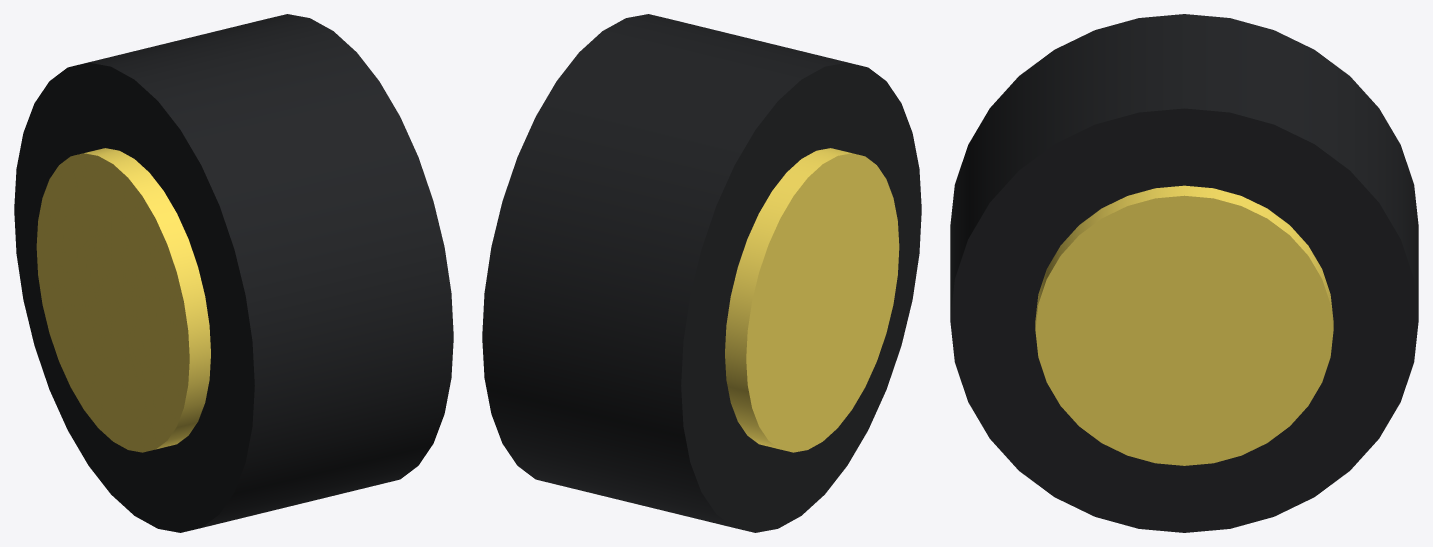
Rendered from kart_wheel.glb.
The picture shows the model from 3 angles, left to right: view 1: azimuth 30°, elevation 25°; view 2: azimuth 150°, elevation 25°; view 3: azimuth 270°, elevation 25°; orthographic projection. The views are drawn at different scales.
Size of the model in its own units: 0.51 by 0.88 by 0.88.
